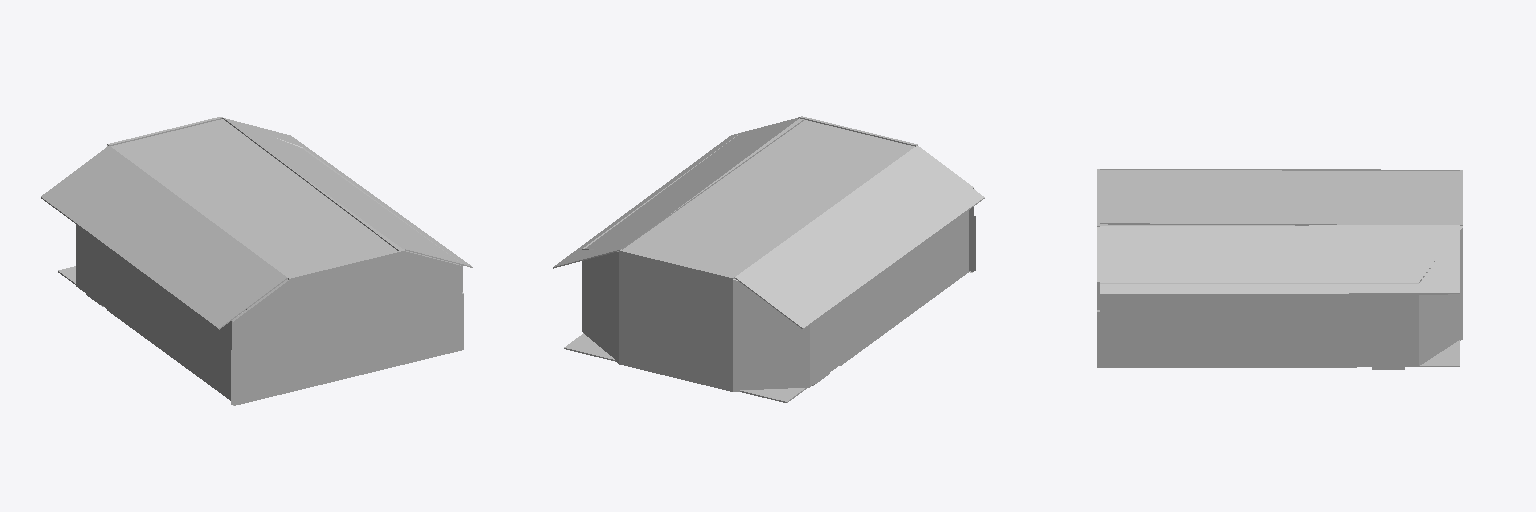
Rendered from Building.obj.
The picture shows the model from 3 angles: view 1: azimuth 30°, elevation 25°; view 2: azimuth 150°, elevation 25°; view 3: azimuth 270°, elevation 25°; orthographic projection.
Visible parts, largest first — view 1: Roof_Cube.025, FrontandBack_Cube.004, Walls_Cube.012; view 2: Roof_Cube.025, Walls_Cube.012, FrontandBack_Cube.004, Floor_Cube.018; view 3: Roof_Cube.025, Walls_Cube.012, Floor_Cube.018.
Part boxes in pixels (bbox=[...]): Roof_Cube.025: bbox=[41, 118, 472, 329]; FrontandBack_Cube.004: bbox=[108, 117, 463, 405]; Walls_Cube.012: bbox=[58, 118, 463, 404]; Roof_Cube.025: bbox=[553, 117, 984, 329]; Walls_Cube.012: bbox=[576, 132, 969, 402]; FrontandBack_Cube.004: bbox=[619, 116, 975, 391]; Floor_Cube.018: bbox=[564, 333, 804, 402]; Roof_Cube.025: bbox=[1100, 169, 1459, 294]; Walls_Cube.012: bbox=[1097, 225, 1462, 367]; Floor_Cube.018: bbox=[1420, 340, 1459, 365].
Size of the model in its own units: 9.48 by 4.18 by 11.87.